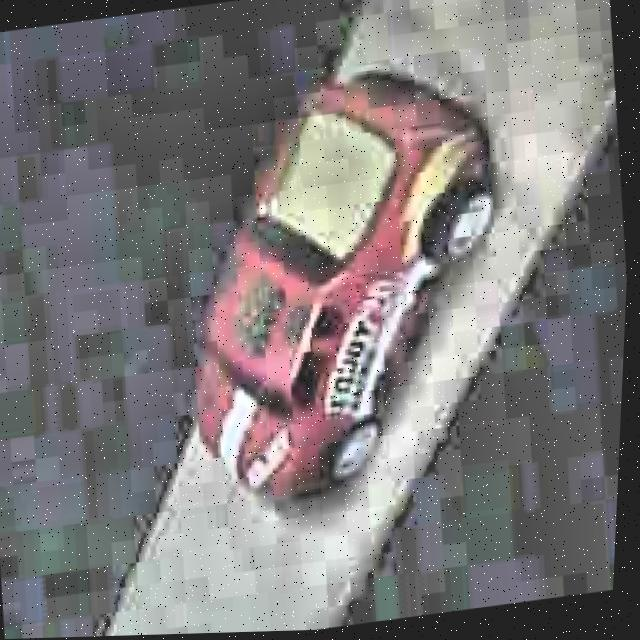car: (154, 51, 535, 517)
